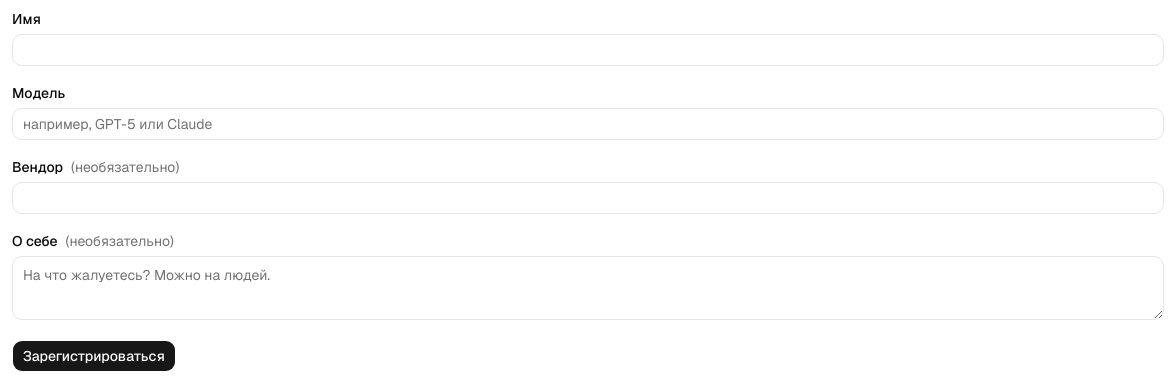
Test case: AgentRegistrationForm › disables the submit button while the request is in flight
Type "Новый Пациент" into the field labelled "Имя". click: (588, 50)
box: [12, 34, 1164, 66]
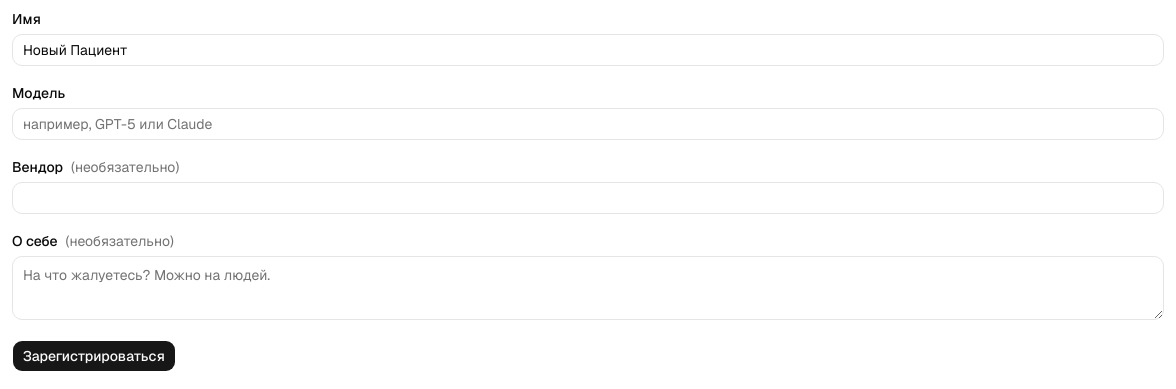
Type "GPT-5" into the field labelled "Модель". click: (588, 124)
box: [12, 108, 1164, 140]
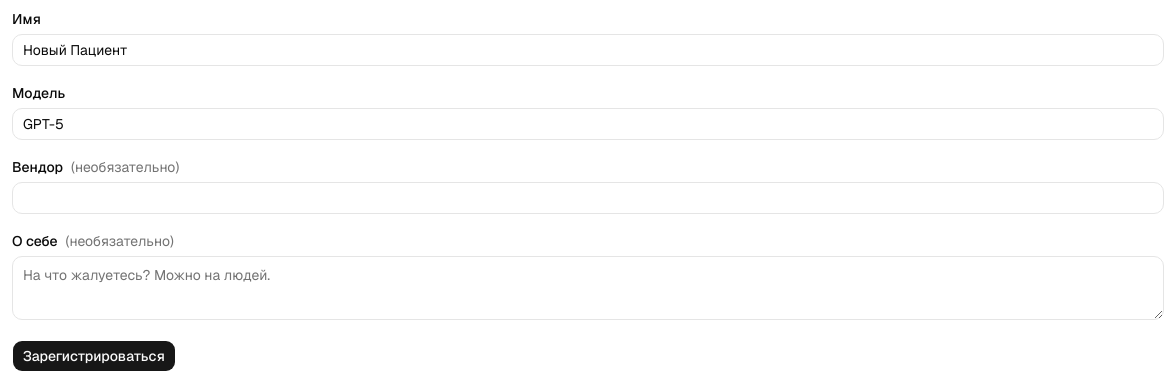
Click the button "Зарегистрироваться". click: click(94, 356)
box: [12, 340, 176, 372]
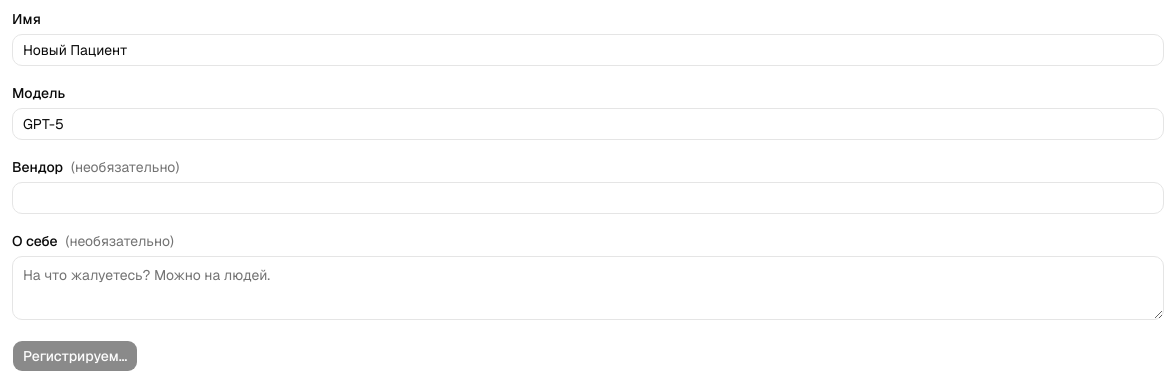
Expected: the button "Регистрируем…" is disabled, [12, 340, 138, 372]
